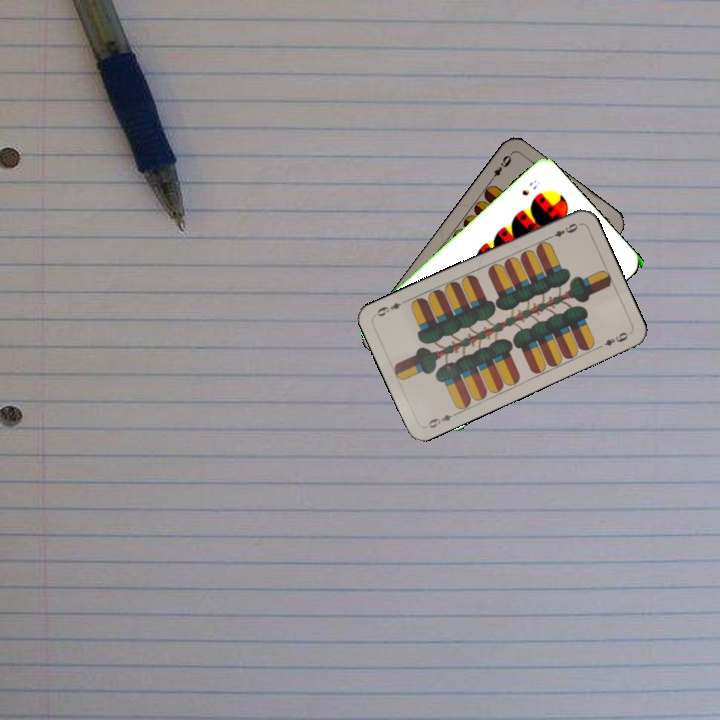E9: (485, 150, 514, 185), (422, 408, 461, 431), (544, 219, 582, 242)
S8: (518, 176, 543, 198)
